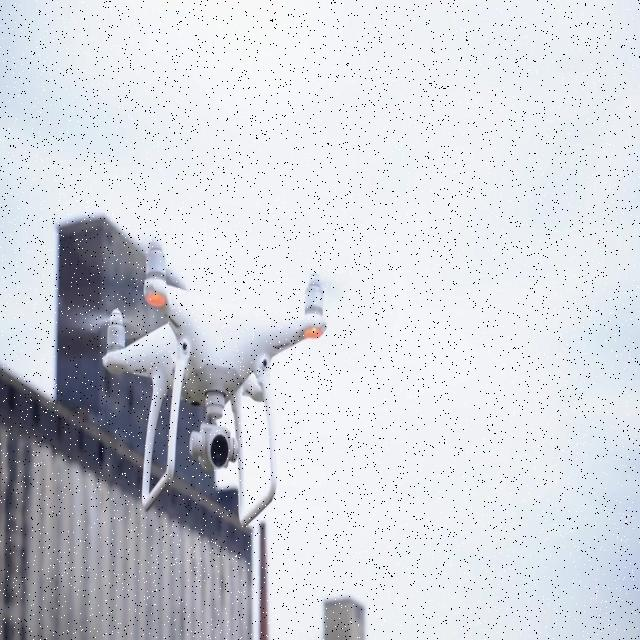UAV: (102, 239, 328, 525)
